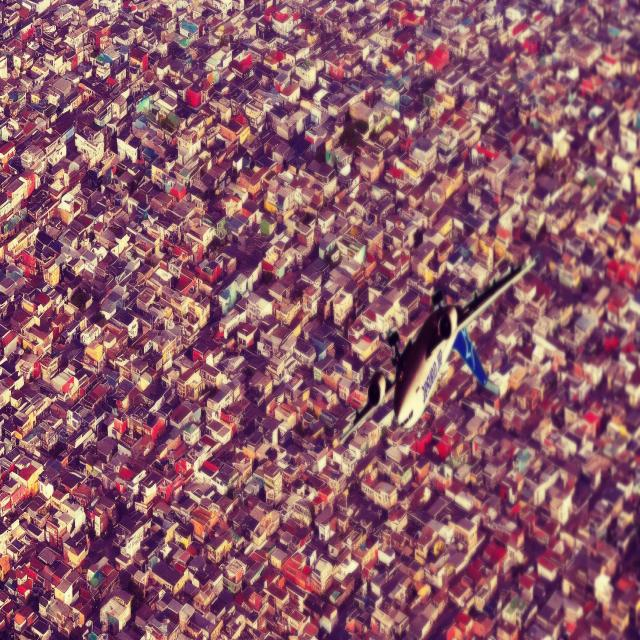airplane: (332, 247, 541, 450)
